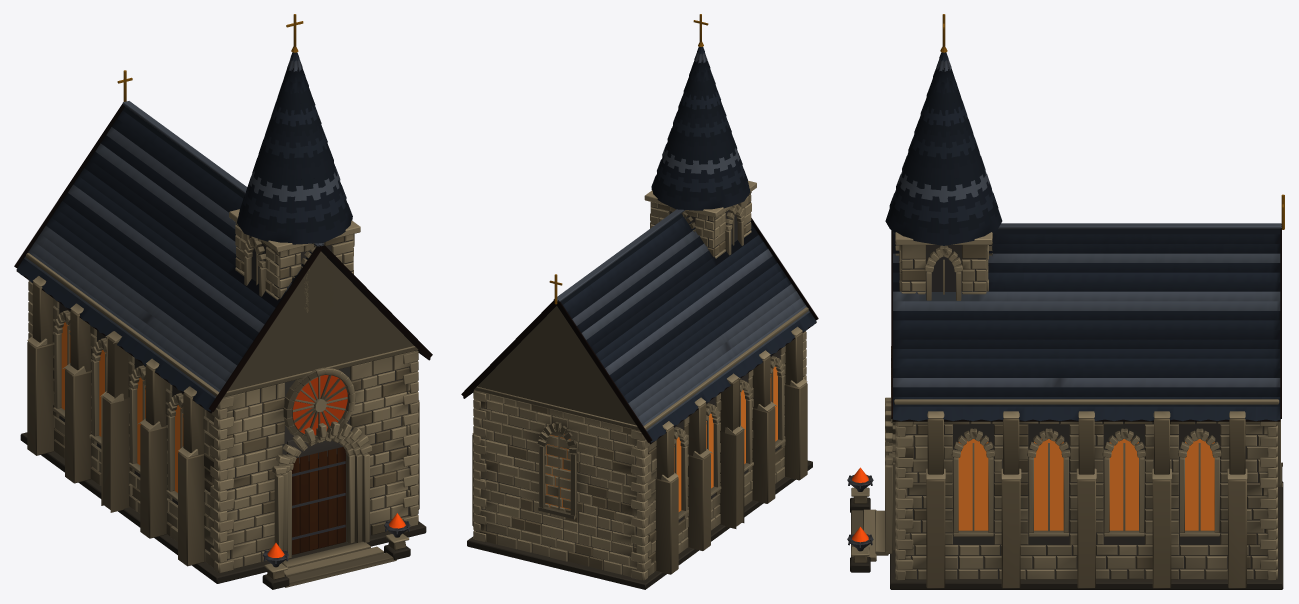
The model's file is Capela4.fbx.
3 renders of one model, left to right at view 1: azimuth 30°, elevation 25°; view 2: azimuth 150°, elevation 25°; view 3: azimuth 270°, elevation 25°, orthographic. The views are drawn at different scales.
Visible parts, largest first — view 1: Capela4; view 2: Capela4; view 3: Capela4.
Part boxes in pixels (x1=…): Capela4: x1=14, y1=14, x2=432, y2=589; Capela4: x1=461, y1=14, x2=818, y2=589; Capela4: x1=847, y1=14, x2=1284, y2=589.
Size of the model in its own units: 10.09 by 21.55 by 16.25.
